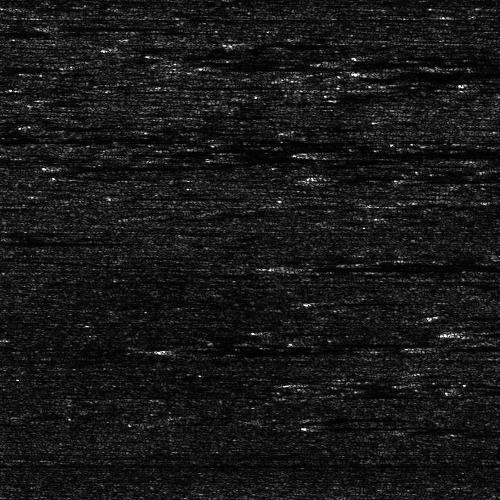object: (178, 252, 427, 279), (110, 344, 203, 355), (409, 323, 500, 334), (23, 159, 116, 168), (314, 53, 367, 66), (309, 171, 362, 182), (336, 68, 389, 77), (401, 343, 464, 348), (298, 149, 329, 154)
shadow: (303, 252, 500, 279), (69, 159, 308, 168), (340, 53, 500, 66), (157, 344, 329, 355), (335, 171, 500, 182), (363, 68, 500, 77), (0, 61, 48, 74), (0, 237, 82, 244), (433, 343, 500, 348), (314, 149, 377, 154), (0, 87, 53, 92), (477, 323, 500, 334)
